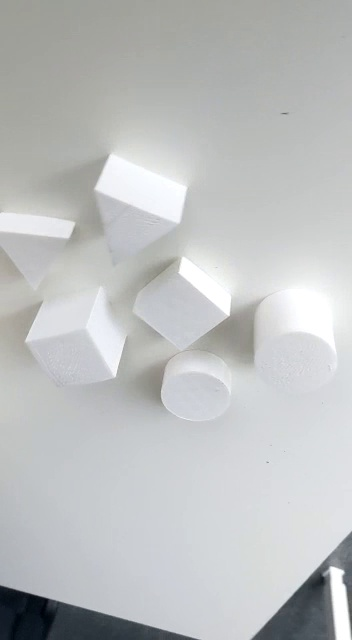Clyinder_short: (160, 348, 234, 424)
Cube: (21, 284, 127, 394)
Cube_short: (127, 254, 234, 352)
Cylinder: (252, 285, 338, 400)
Triangle: (90, 151, 191, 275)
Triangle_short: (1, 209, 77, 285)
